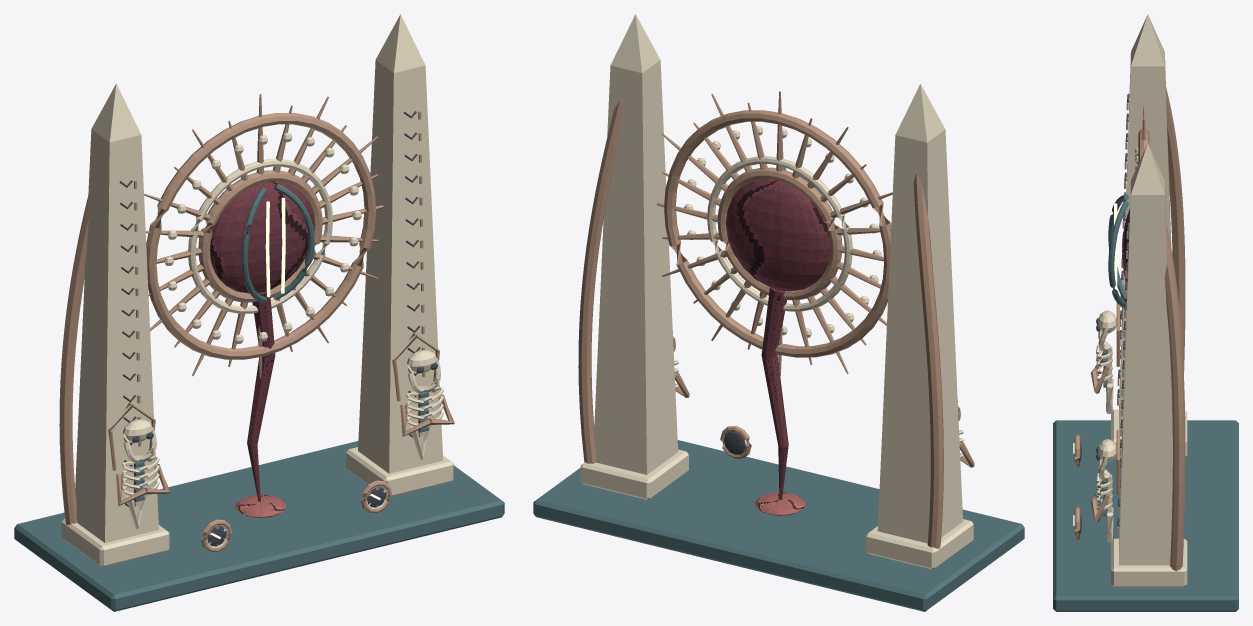
Rendered from intake_solar_seal.glb.
3 views of the same model, side by side, from view 1: azimuth 30°, elevation 25°; view 2: azimuth 150°, elevation 25°; view 3: azimuth 270°, elevation 25° (orthographic). The views are drawn at different scales.
Parts seen in each view (by area): view 1: intake_solar_seal_warm, intake_solar_seal_petrol, intake_solar_seal_worn, intake_solar_seal_bruised, intake_solar_seal_deep, intake_solar_seal_suture, intake_solar_seal_sick; view 2: intake_solar_seal_warm, intake_solar_seal_petrol, intake_solar_seal_worn, intake_solar_seal_bruised, intake_solar_seal_suture; view 3: intake_solar_seal_warm, intake_solar_seal_petrol, intake_solar_seal_worn, intake_solar_seal_deep, intake_solar_seal_bruised, intake_solar_seal_sick.
Part boxes in pixels (left/top/right/bottom): intake_solar_seal_warm: left=61, top=14, right=453, bottom=567; intake_solar_seal_petrol: left=14, top=184, right=504, bottom=611; intake_solar_seal_worn: left=59, top=94, right=454, bottom=552; intake_solar_seal_bruised: left=210, top=181, right=314, bottom=501; intake_solar_seal_deep: left=119, top=111, right=437, bottom=546; intake_solar_seal_suture: left=235, top=494, right=285, bottom=517; intake_solar_seal_sick: left=211, top=197, right=380, bottom=538; intake_solar_seal_warm: left=580, top=14, right=973, bottom=569; intake_solar_seal_petrol: left=533, top=167, right=1024, bottom=611; intake_solar_seal_worn: left=578, top=91, right=974, bottom=548; intake_solar_seal_bruised: left=725, top=179, right=830, bottom=499; intake_solar_seal_suture: left=755, top=492, right=805, bottom=515; intake_solar_seal_warm: left=1075, top=14, right=1187, bottom=587; intake_solar_seal_petrol: left=1053, top=194, right=1238, bottom=611; intake_solar_seal_worn: left=1074, top=87, right=1185, bottom=571; intake_solar_seal_deep: left=1078, top=93, right=1129, bottom=533; intake_solar_seal_bruised: left=1122, top=209, right=1129, bottom=286; intake_solar_seal_sick: left=1073, top=203, right=1117, bottom=525.
Size of the model in its own units: 6.7 by 7.81 by 2.95.
Materials: 7 (2 with a texture image).
